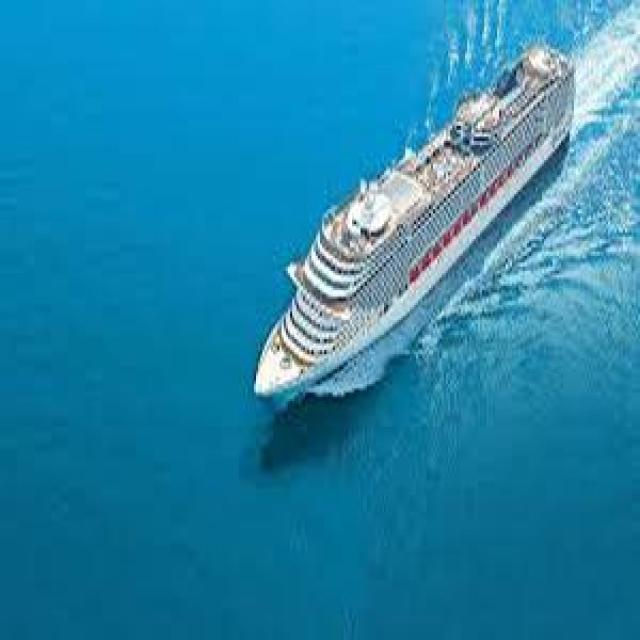passenger ship: (238, 40, 573, 400)
